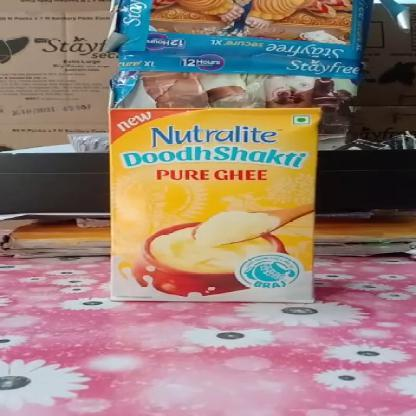Nutralite DOODHSHAKTHI PURE GHEE 1L: (111, 109, 313, 301)
